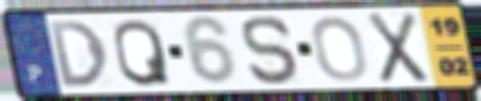6: (180, 13, 243, 89)
D: (45, 18, 111, 90)
O: (309, 14, 370, 83)
Q: (111, 16, 174, 89)
S: (239, 13, 304, 87)
X: (364, 10, 431, 86)
